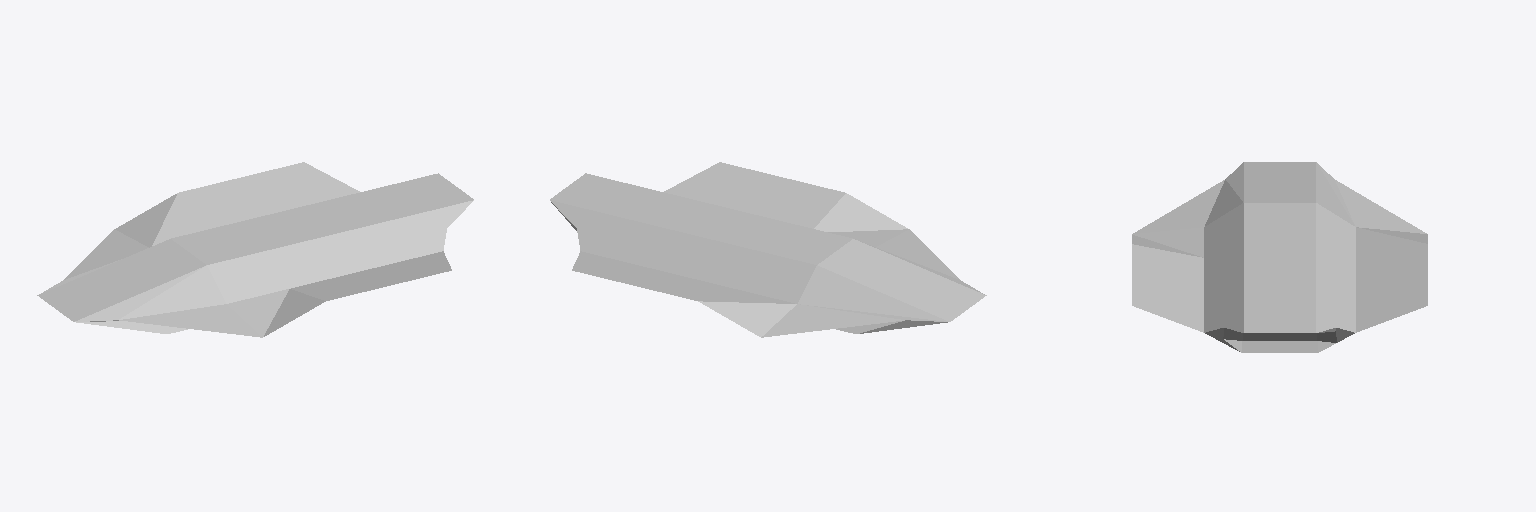
File: shuttle.obj
3 views of the same model, side by side, from view 1: azimuth 30°, elevation 25°; view 2: azimuth 150°, elevation 25°; view 3: azimuth 270°, elevation 25° (orthographic).
Visible parts, largest first — view 1: Plane; view 2: Plane; view 3: Plane.
Part boxes in pixels (bbox=[...]): Plane: bbox=[37, 162, 473, 337]; Plane: bbox=[550, 162, 986, 337]; Plane: bbox=[1132, 162, 1427, 352].
Bounding box in the file's own units: 3.18 × 0.3094 × 2.03.